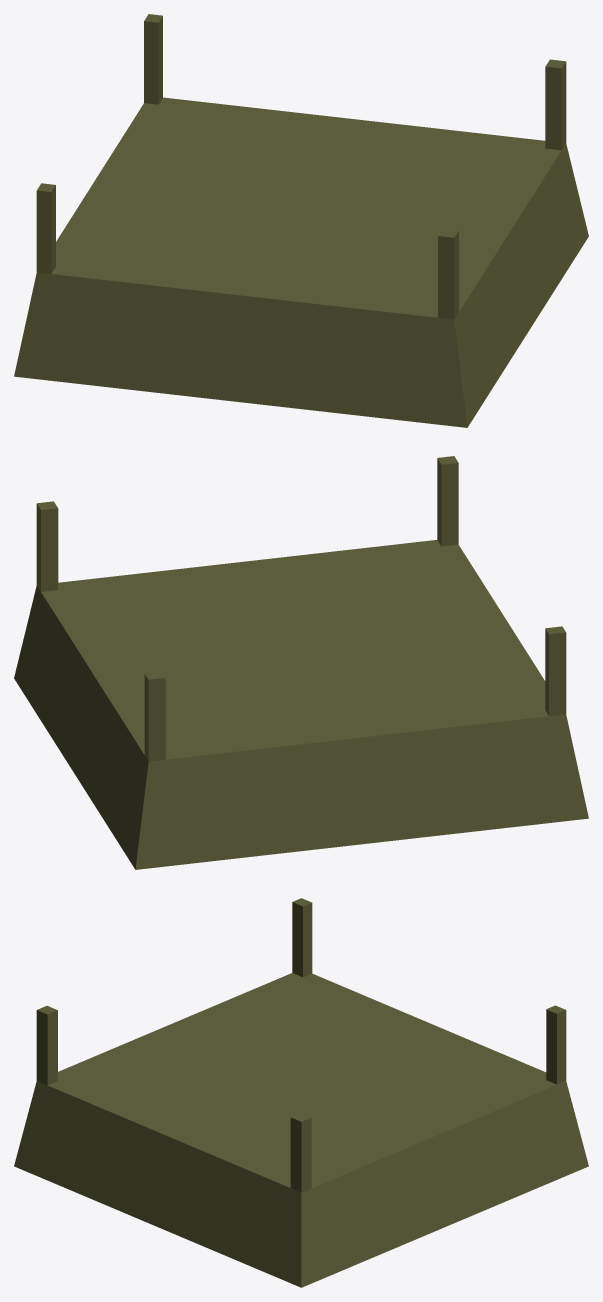
Rendered from Stage.fbx.
The picture shows the model from 3 angles, top to bottom: view 1: azimuth 30°, elevation 25°; view 2: azimuth 150°, elevation 25°; view 3: azimuth 270°, elevation 25°; orthographic projection. The views are drawn at different scales.
Visible parts, largest first — view 1: Stage; view 2: Stage; view 3: Stage.
Part boxes in pixels (left/top/right/bottom): Stage: left=14, top=14, right=588, bottom=427; Stage: left=14, top=456, right=588, bottom=869; Stage: left=14, top=898, right=588, bottom=1287.
Size of the model in its own units: 27.68 by 8.31 by 27.68.
